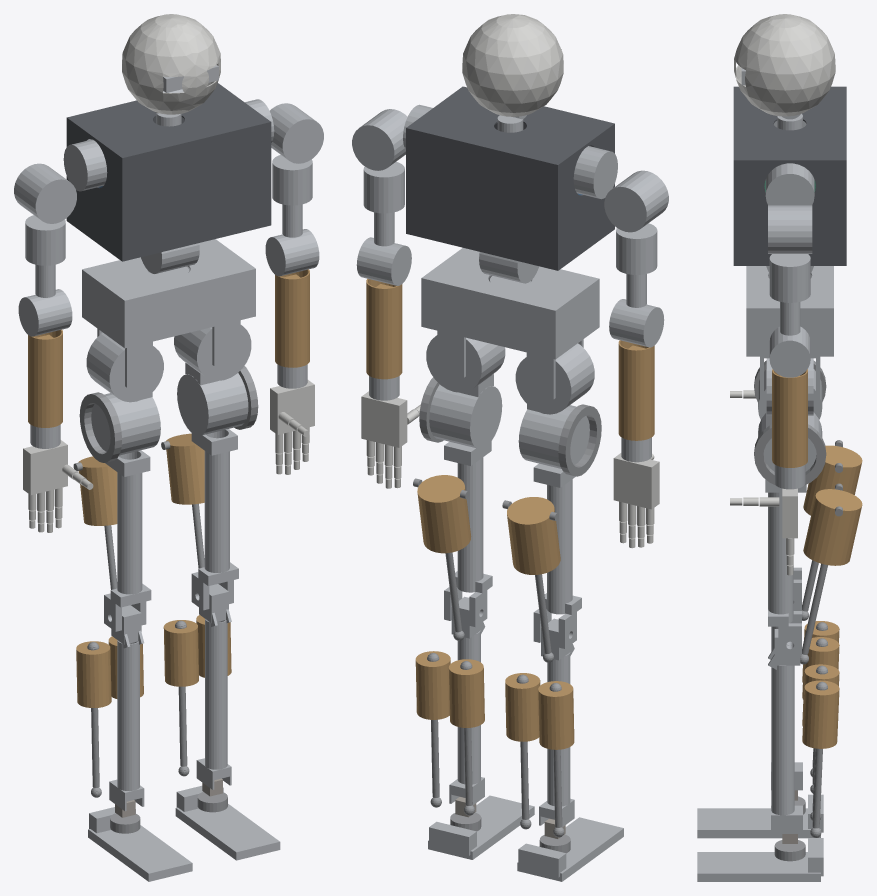
The model's file is bhl_v2.glb.
3 views of the same model, side by side, from view 1: azimuth 30°, elevation 25°; view 2: azimuth 150°, elevation 25°; view 3: azimuth 270°, elevation 25° (orthographic). The views are drawn at different scales.
Visible parts, largest first — view 1: p7, p0, p85, p123, p160, p95, p146, p109, p24, p58, p138, p101 (+37 smaller); view 2: p7, p0, p85, p95, p58, p24, p103, p140, p160, p123, p132, p48 (+34 smaller); view 3: p7, p85, p0, p123, p109, p103, p24, p160, p101, p116, p14, p17 (+22 smaller).
Boxes of the visible parts, x1,y1,x2,y2 form: p7: (66,83,271,261); p0: (82,239,255,348); p85: (122,14,220,114); p123: (175,785,280,860); p160: (88,807,192,881); p95: (177,373,248,435); p146: (117,640,139,790); p109: (205,619,227,769); p24: (275,269,309,367); p58: (28,329,62,427); p138: (117,472,142,594); p101: (204,451,229,572); p7: (406,86,614,270); p0: (421,248,599,359); p85: (462,14,563,116); p95: (429,384,502,448); p58: (618,340,654,440); p24: (366,278,402,379); p103: (417,475,471,553); p140: (507,497,560,574); p160: (517,817,623,881); p123: (428,795,534,859); p132: (518,405,589,468); p48: (604,170,668,232); p7: (733,86,846,265); p85: (734,14,835,116); p0: (746,266,833,356); p123: (697,838,823,881); p109: (771,665,794,815); p103: (803,489,862,565); p24: (772,369,807,467); p160: (697,794,823,838); p101: (768,492,793,623); p116: (802,680,839,748); p14: (768,205,812,253); p17: (769,254,810,302).
Size of the model in its own units: 0.6583 by 1.78 by 0.3206.
